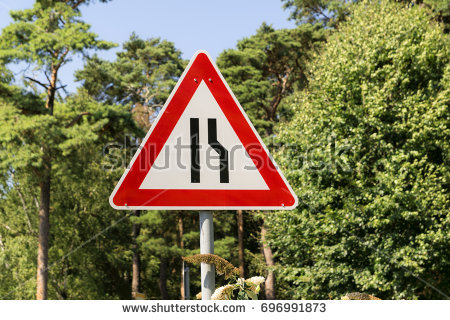crop: (106, 47, 304, 214)
